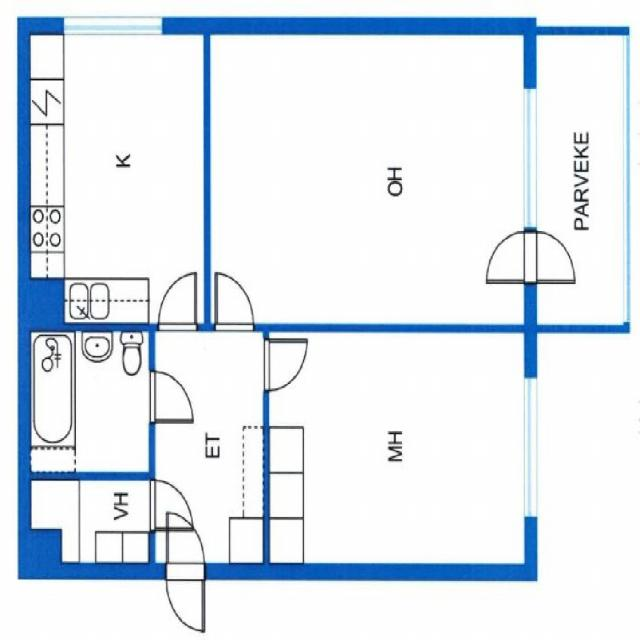door: (166, 511, 204, 580), (523, 232, 574, 282), (166, 563, 204, 630), (486, 232, 536, 282), (263, 339, 307, 390), (215, 273, 253, 331), (149, 372, 192, 422), (159, 273, 196, 331), (149, 481, 192, 530)
